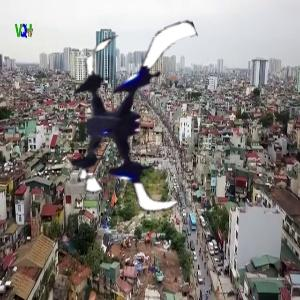drone: (38, 32, 228, 222)
